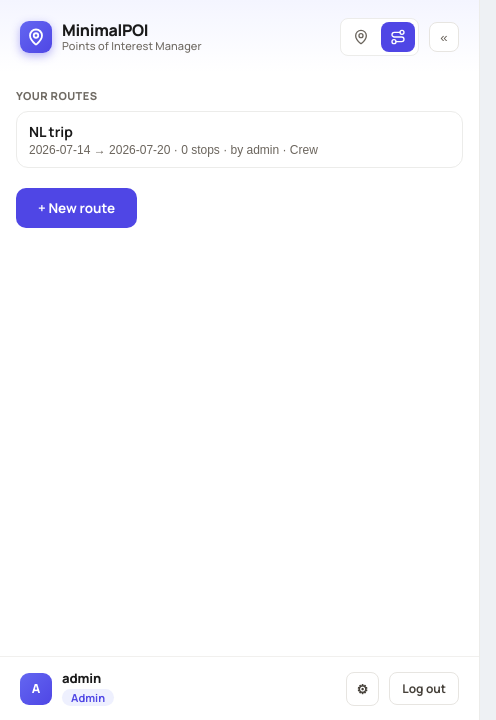
Test case: RoutesPage › lists routes and opens the timeline on select
Click the button "NL trip 2026-07-14 → 2026-07-20 · 0 stops · by admin · Crew": (51, 132) [16,111,463,168]
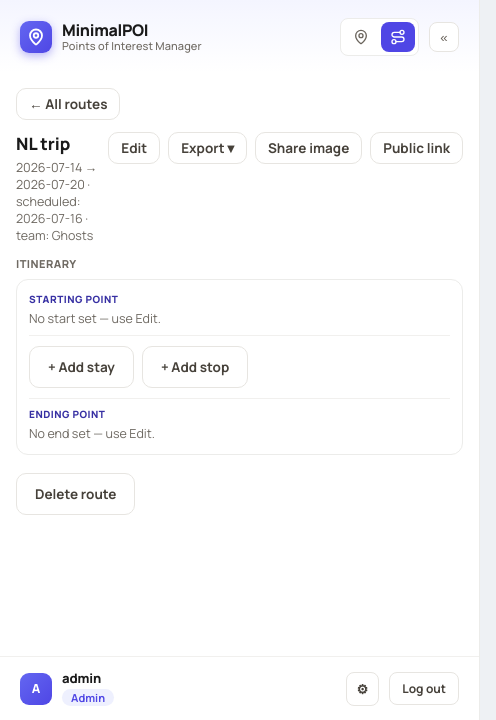
Result: the text "Itinerary" is shown at [16,256,77,271]
Result: the button "+ Add stay" is shown at [29,346,134,388]
